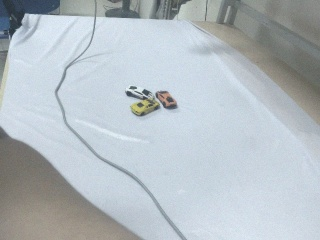toy_car: (126, 79, 177, 115), (130, 98, 160, 116), (125, 85, 154, 101), (156, 91, 177, 109)
